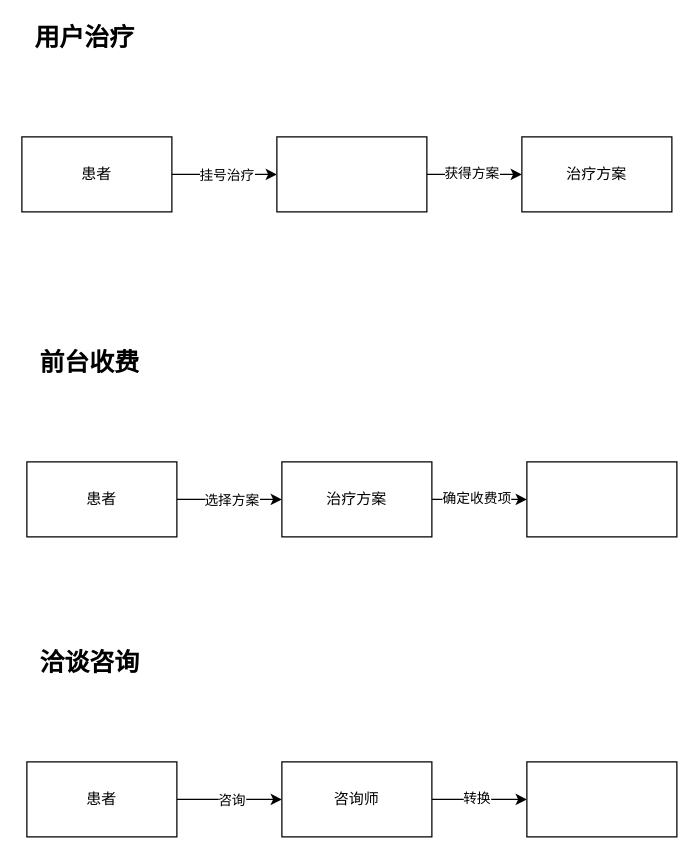
Some shapes in this 699 by 859 pixel diagram are drawn without their labels. Each missing label, with the box of its shape:
医生治疗: (276, 136, 427, 212)
收费: (526, 461, 677, 537)
真实用户: (526, 761, 677, 837)
